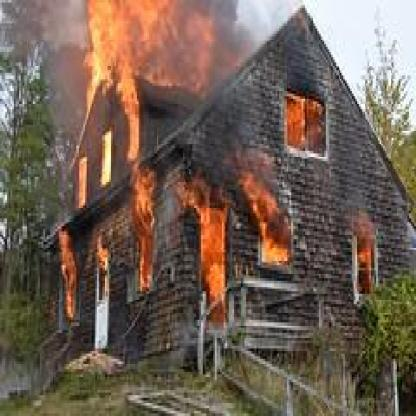fire: (53, 0, 237, 322), (250, 169, 292, 263), (285, 86, 323, 156), (347, 201, 374, 298)
